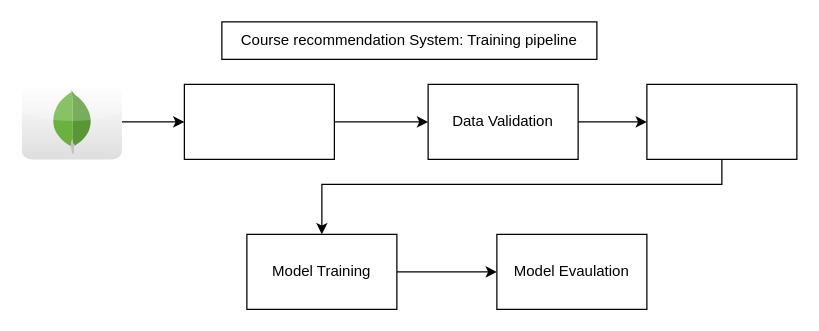
Image size: 819x331. Some labels were removed from this diagram. The shapes that lost their labels are listed below. From the top down, each one's centre as x and y in pixels, then its label:
At (x=258, y=121): "Data Ingestion".
At (x=721, y=121): "Data Transformation".
